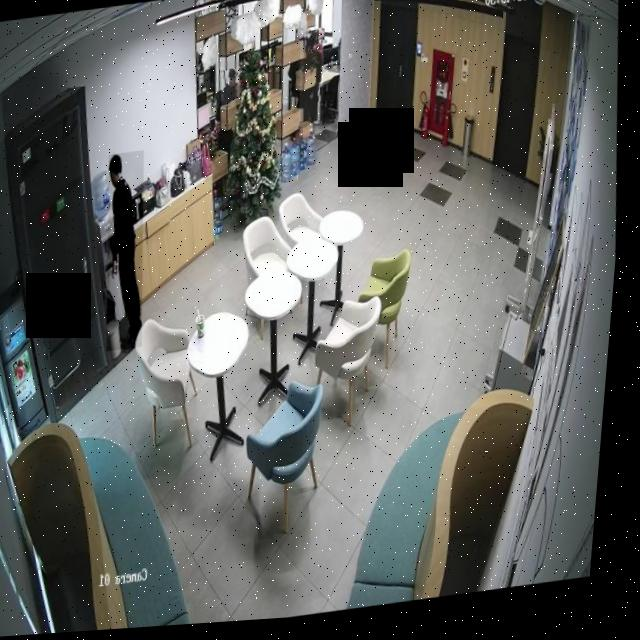person: (98, 151, 160, 354), (294, 32, 331, 143), (221, 71, 243, 110)
